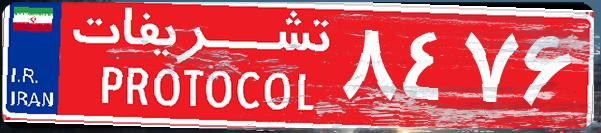4: (400, 20, 460, 115)
6: (520, 20, 580, 115)
7: (460, 20, 520, 115)
8: (340, 20, 400, 115)
تشریفات: (60, 8, 340, 125)
